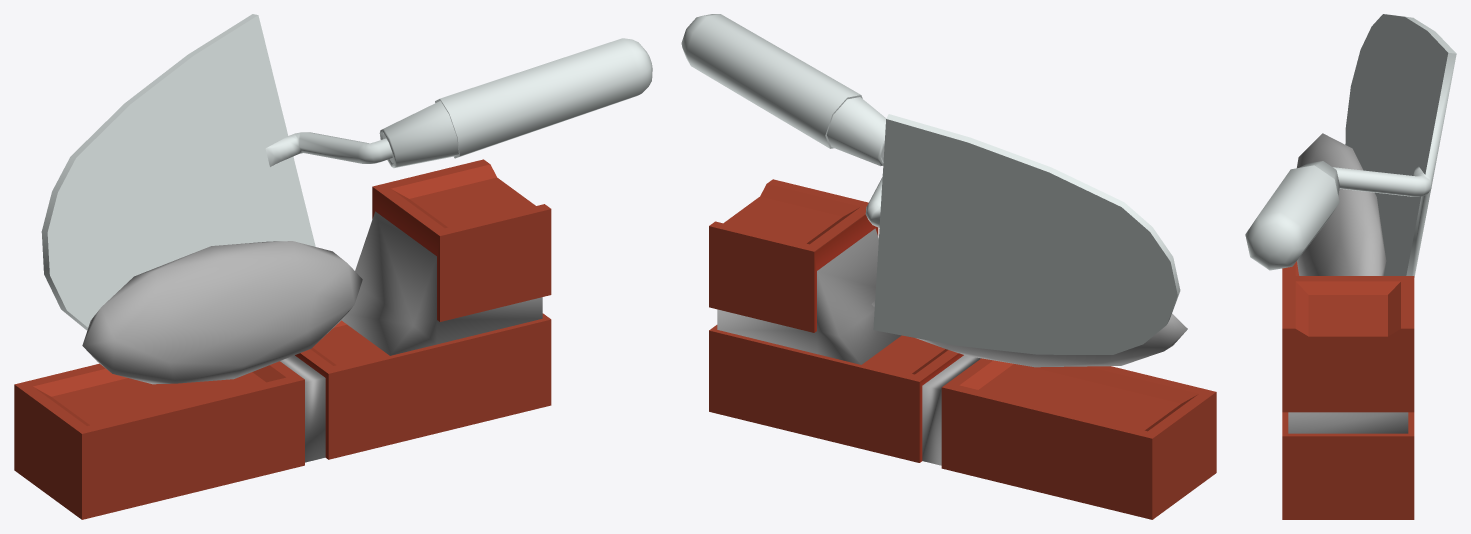
3 renders of one model, left to right at view 1: azimuth 30°, elevation 25°; view 2: azimuth 150°, elevation 25°; view 3: azimuth 270°, elevation 25°, orthographic. The views are drawn at different scales.
Parts seen in each view (by area): view 1: IWBtrophySilver, Bricks, Brick, Cement; view 2: IWBtrophySilver, Bricks, Brick, Cement; view 3: IWBtrophySilver, Brick, Bricks, Cement.
Boxes of the visible parts, x1,y1,x2,y2 form: IWBtrophySilver: (41,14,652,330); Bricks: (14,313,551,519); Brick: (341,159,551,355); Cement: (82,241,362,384); IWBtrophySilver: (681,14,1180,354); Bricks: (709,325,1216,519); Brick: (709,179,901,364); Cement: (871,301,1187,367); IWBtrophySilver: (1245,14,1456,277); Brick: (1282,276,1414,433); Bricks: (1282,261,1414,519); Cement: (1297,133,1386,275).
Bounding box in the file's own units: 0.2401 × 0.1542 × 0.0802.
2 materials, 2 textured.
